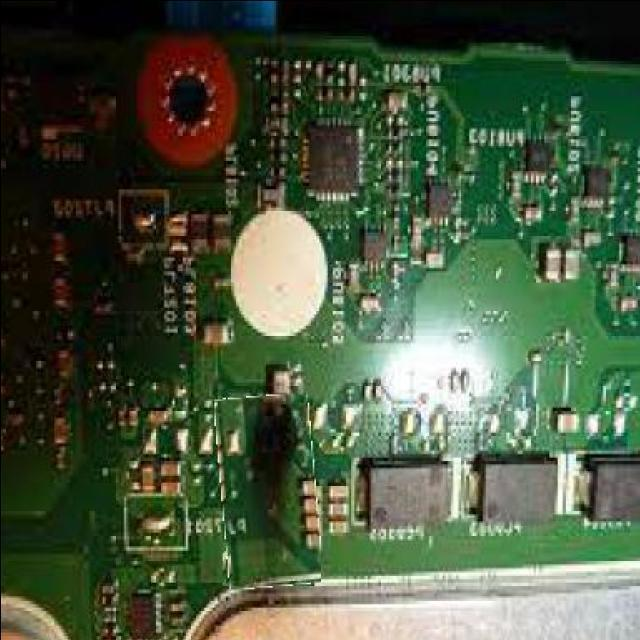Burn: (218, 392, 318, 586)
